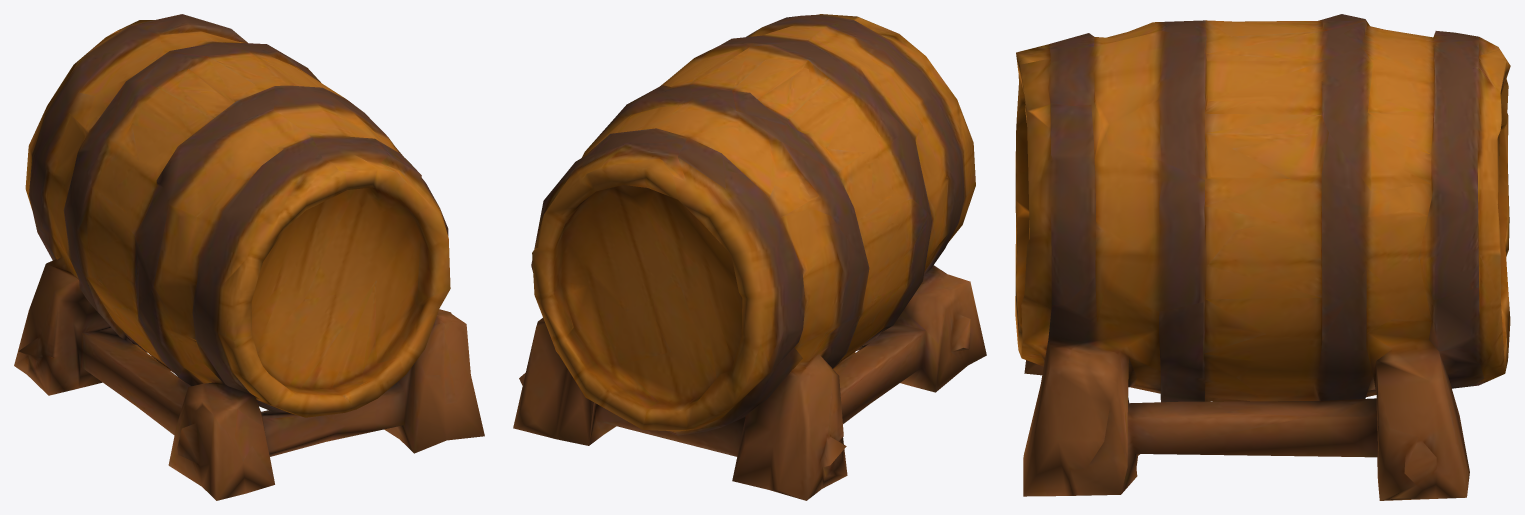
File: model-prop-cask-cradle-01.glb
3 views of the same model, side by side, from view 1: azimuth 30°, elevation 25°; view 2: azimuth 150°, elevation 25°; view 3: azimuth 270°, elevation 25° (orthographic). The views are drawn at different scales.
Parts seen in each view (by area): view 1: tripo_node_efa85f47-9063-4043-b6eb-7ab093b86c5b; view 2: tripo_node_efa85f47-9063-4043-b6eb-7ab093b86c5b; view 3: tripo_node_efa85f47-9063-4043-b6eb-7ab093b86c5b.
Part boxes in pixels (<box>): tripo_node_efa85f47-9063-4043-b6eb-7ab093b86c5b: <box>14,14,484,500</box>; tripo_node_efa85f47-9063-4043-b6eb-7ab093b86c5b: <box>513,14,986,500</box>; tripo_node_efa85f47-9063-4043-b6eb-7ab093b86c5b: <box>1015,14,1510,500</box>.
Size of the model in its own units: 0.5888 by 0.6 by 0.6976.
1 material, 1 textured.
